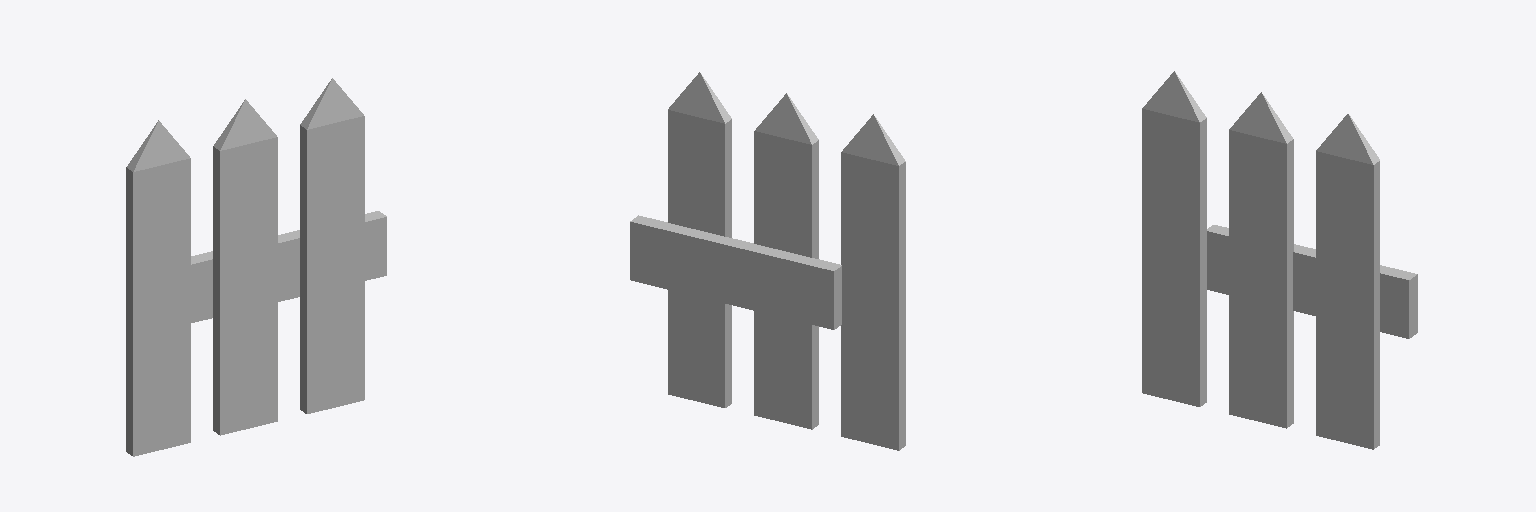
File: FenceRight.obj
3 views of the same model, side by side, from view 1: azimuth 30°, elevation 25°; view 2: azimuth 150°, elevation 25°; view 3: azimuth 330°, elevation 25° (orthographic).
Parts seen in each view (by area): view 1: FenceRight; view 2: FenceRight; view 3: FenceRight.
Part boxes in pixels (left/top/right/bottom): FenceRight: left=126, top=78, right=386, bottom=456; FenceRight: left=630, top=72, right=905, bottom=450; FenceRight: left=1142, top=71, right=1417, bottom=449.
Bounding box in the file's own units: 9.01 × 10.8 × 0.8992.